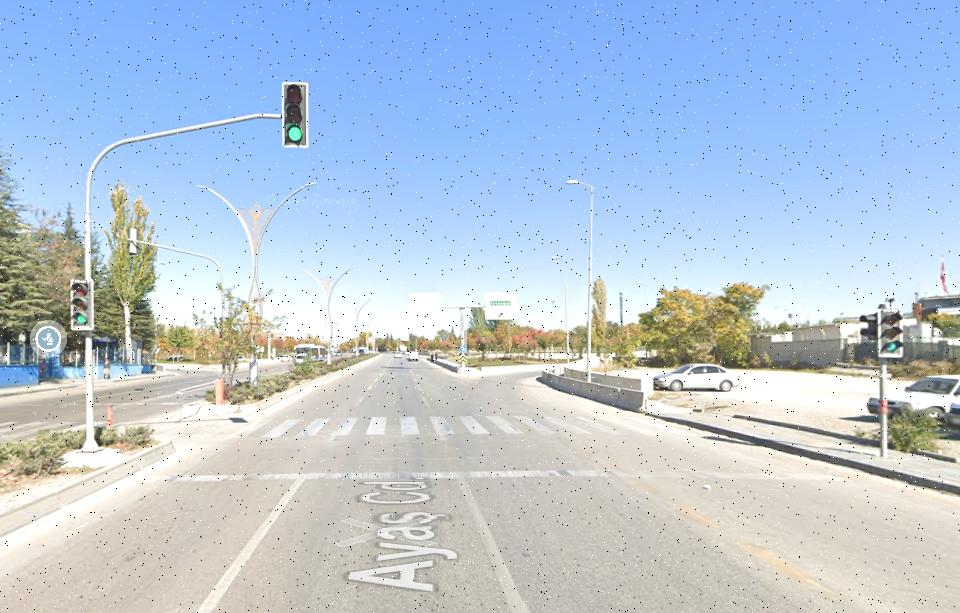greenlight: (283, 84, 307, 143), (880, 311, 902, 356), (72, 278, 89, 326)
